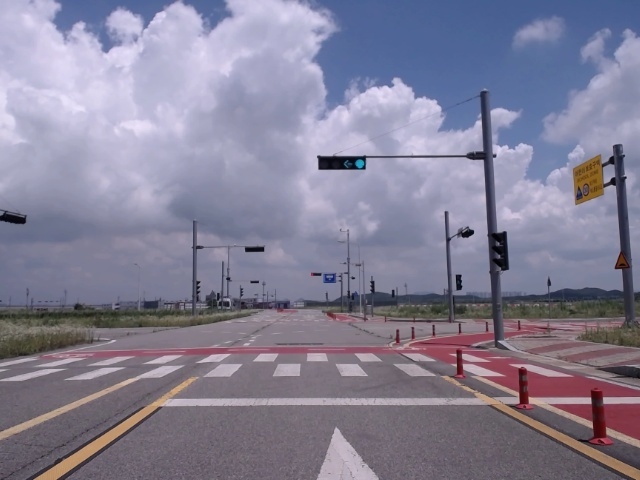all_green_4: (318, 153, 366, 170)
